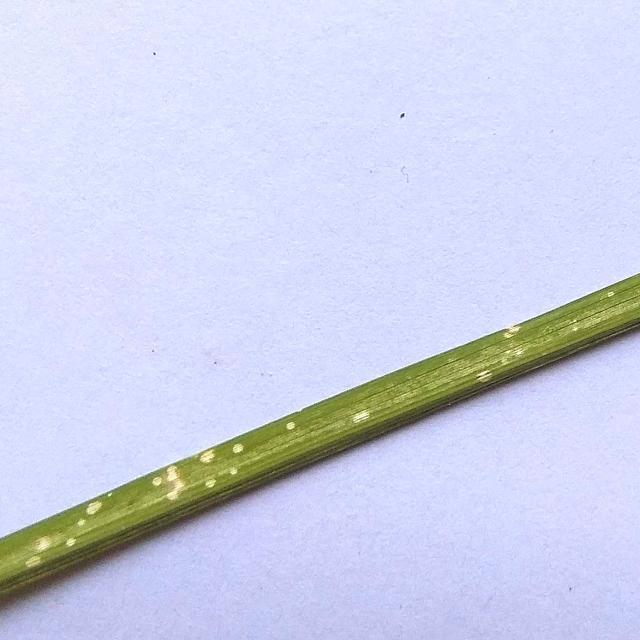Blast: (156, 473, 187, 503), (27, 536, 59, 550), (62, 534, 82, 556), (204, 476, 239, 488), (351, 410, 376, 425), (474, 368, 494, 383), (232, 443, 252, 458), (283, 420, 297, 435), (84, 504, 104, 514), (24, 558, 44, 568), (202, 452, 216, 464), (498, 327, 525, 331)
